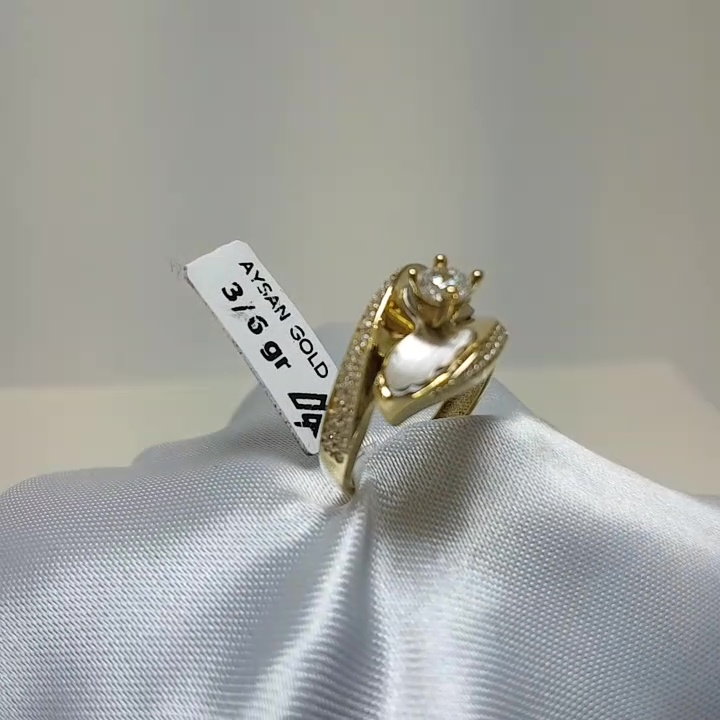Ring 6: (287, 235, 517, 549)
